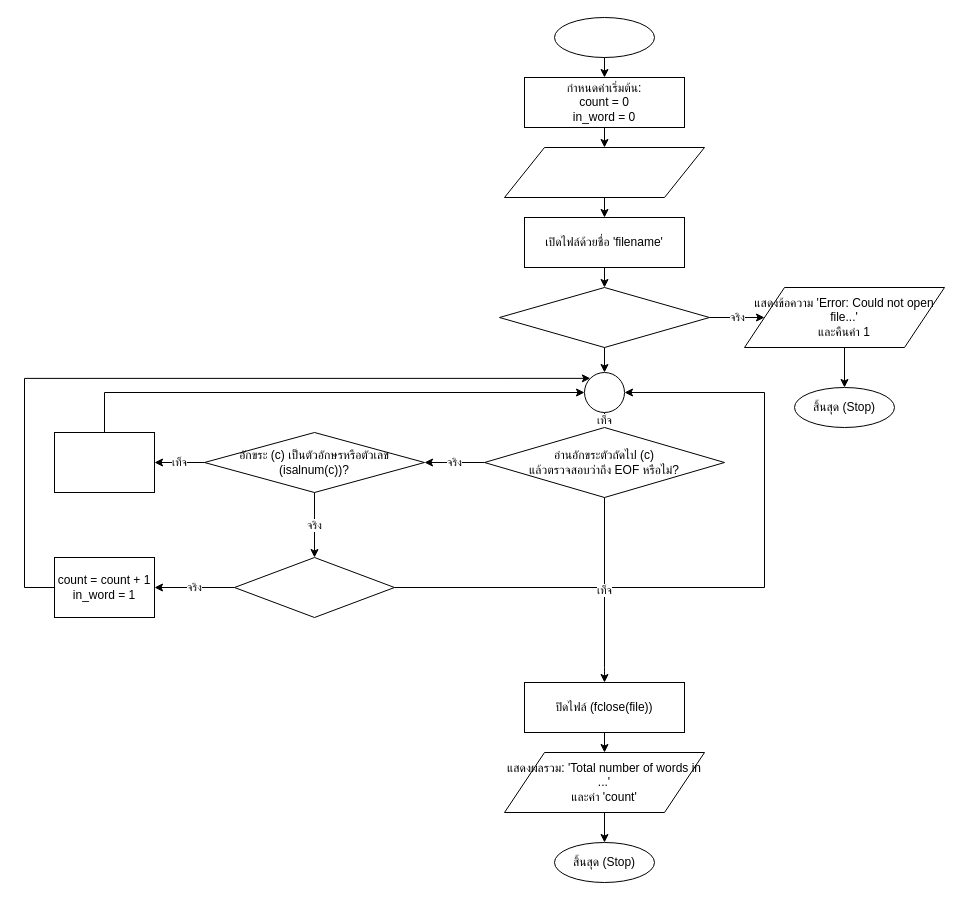
Some shapes in this 962 by 900 pixel diagram are drawn without their labels. Each missing label, with the centre of its shape:
"file มีค่าเป็น NULL (เปิดไฟล์ไม่สำเร็จ)?" goes at (604,317).
"in_word = 0" goes at (104,462).
"in_word มีค่าเป็น 0 (กำลังเริ่มคำใหม่)?" goes at (314,587).
"เริ่มต้น (Start)" goes at (604,37).
"แสดงข้อความ 'Enter file name:' และรับค่า 'filename'" goes at (604,172).
